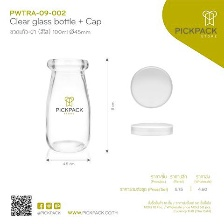bottle: (41, 52, 93, 154)
